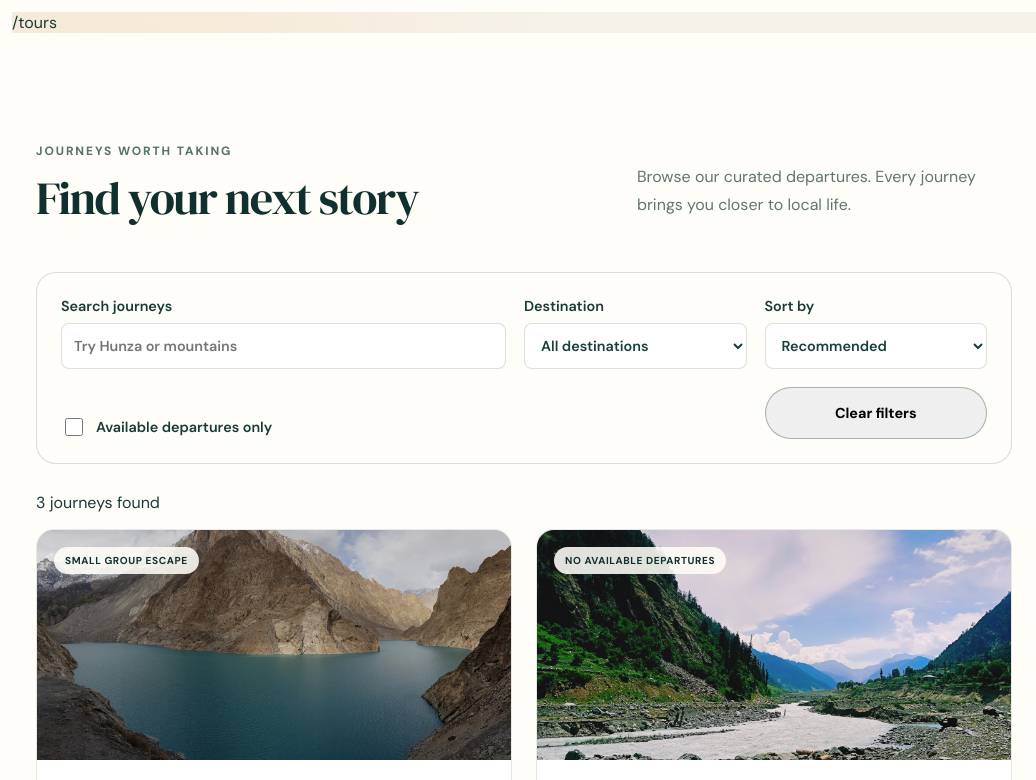
Website completion › searches titles, destinations and descriptions with a no-results state
This screenshot has width=1036, height=780.
Type "forest" into the search field labelled "Search journeys" at (284, 346), box [61,323,506,369]
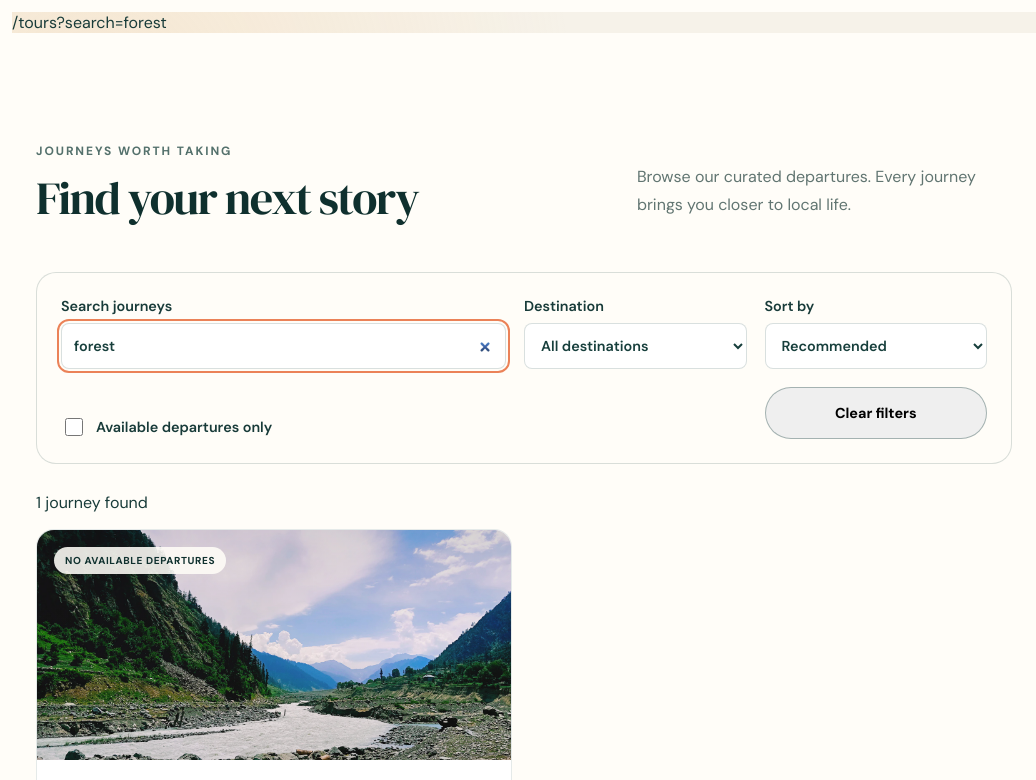
Replace the text in the search field labelled "Search journeys" with "not-a-destination" at (284, 346), box [61,323,506,369]
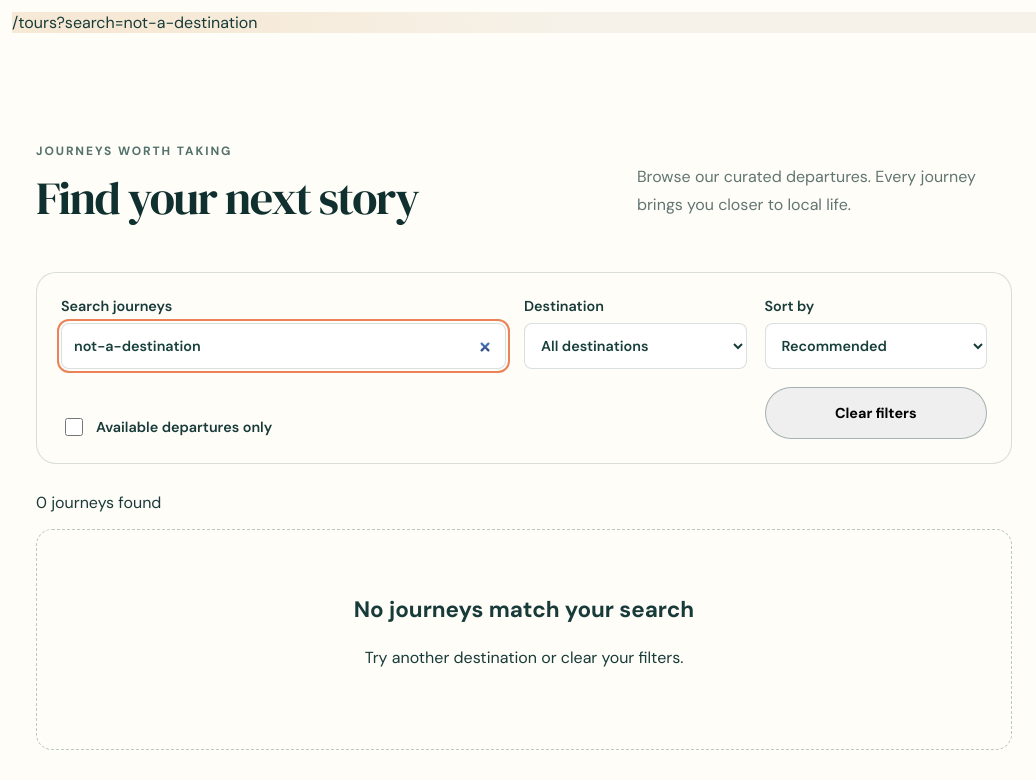
Check: the heading "No journeys match your search" is shown, box [354,595,694,624]
